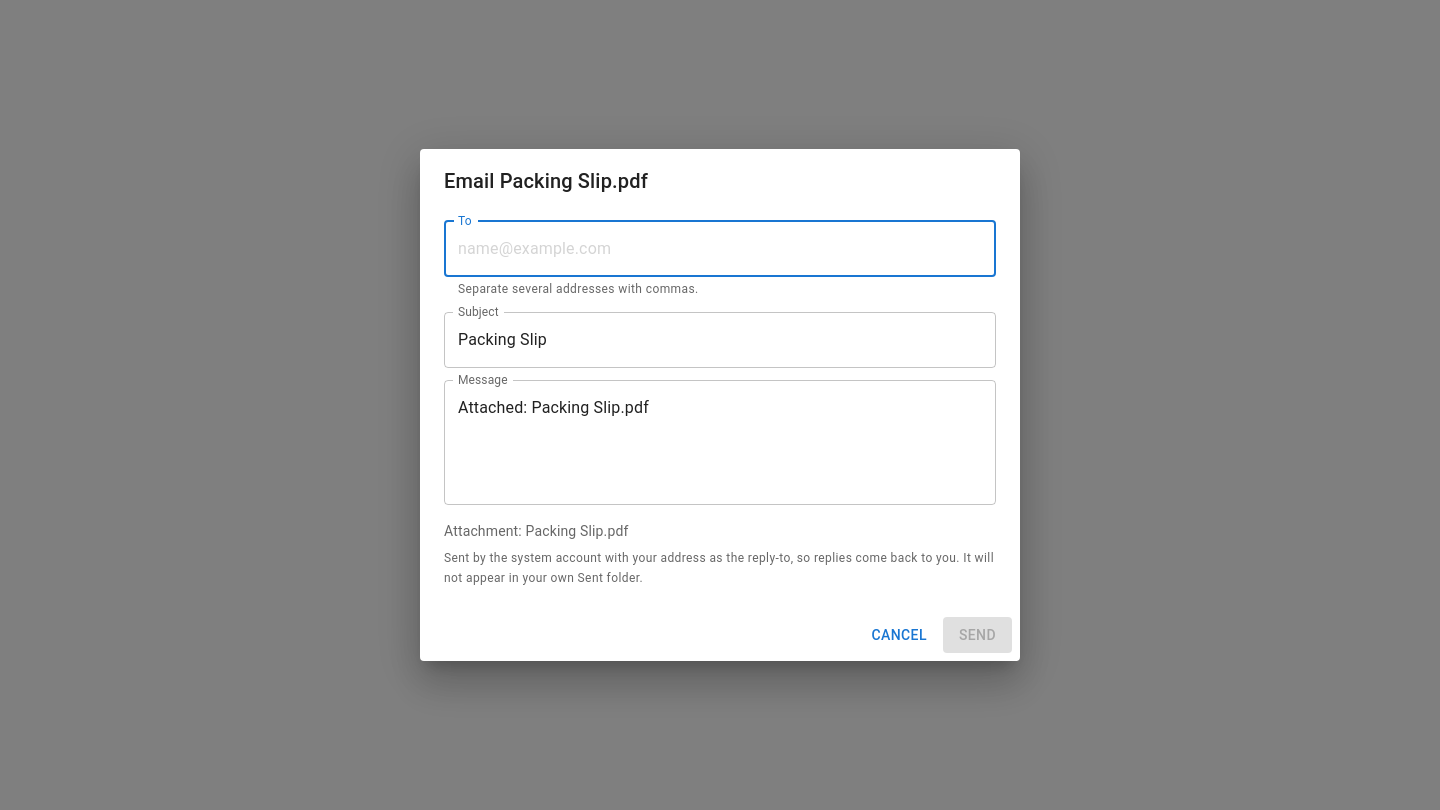
Test: EmailDocumentDialog › keeps Send disabled until an address is typed
The image size is (1440, 810).
Expected: the button "Send" is disabled, [943,617,1012,653]
Type "c@x.com" into the field with test id "email-doc-to". click: (720, 249)
box: [444,221,996,277]
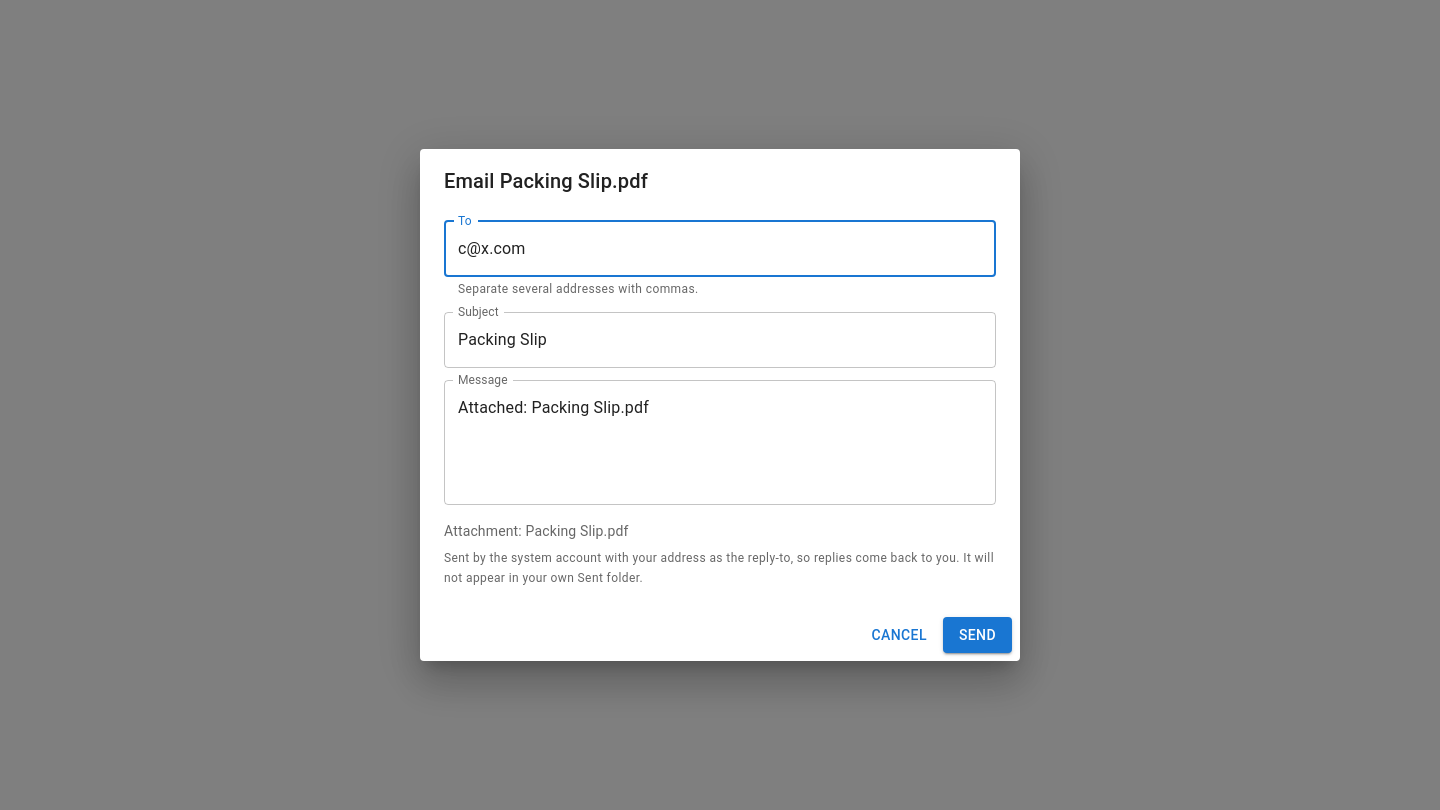
Now the button "Send" is enabled, box [943,617,1012,653]
